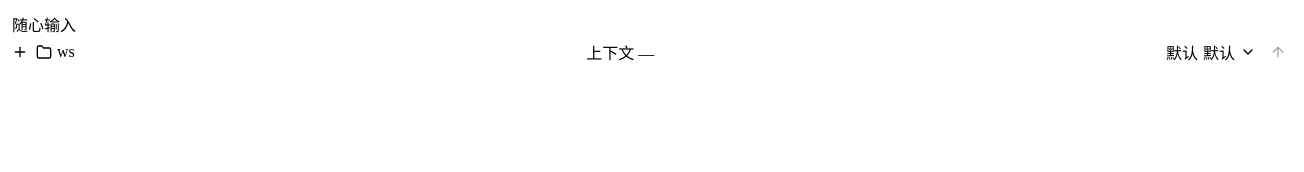
Test case: ChatComposer skill slash › shows the empty-library state when skills is an empty list
The width and height of the screenshot is (1304, 172).
Type "/" into the text box with test id "composer-input" at x=652, y=24, box left=12, top=12, right=1292, bottom=36
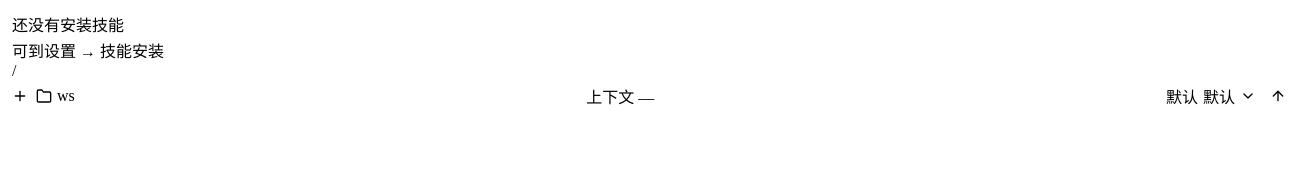
Expected: the list with test id "composer-skill-menu" shows "还没有安装技能", left=12, top=17, right=124, bottom=34
